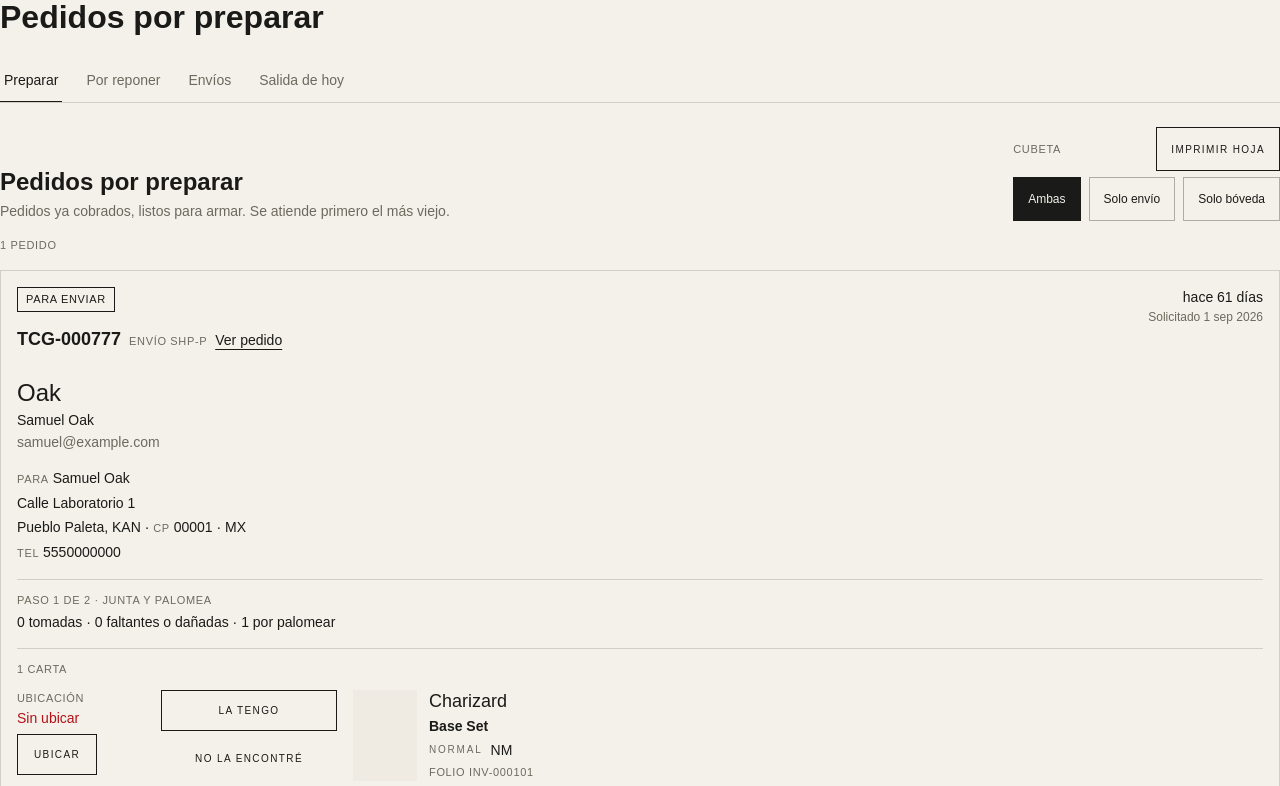
Scenario: M4View · hueco 1: «Ubicar» una carta de un pedido de envío › error del move ⇒ se queda el diálogo con el error y la tarjeta no cambia
Click the button with aria-label "Ubicar la carta con folio INV-000101" at (57, 755), box [17, 734, 97, 775]
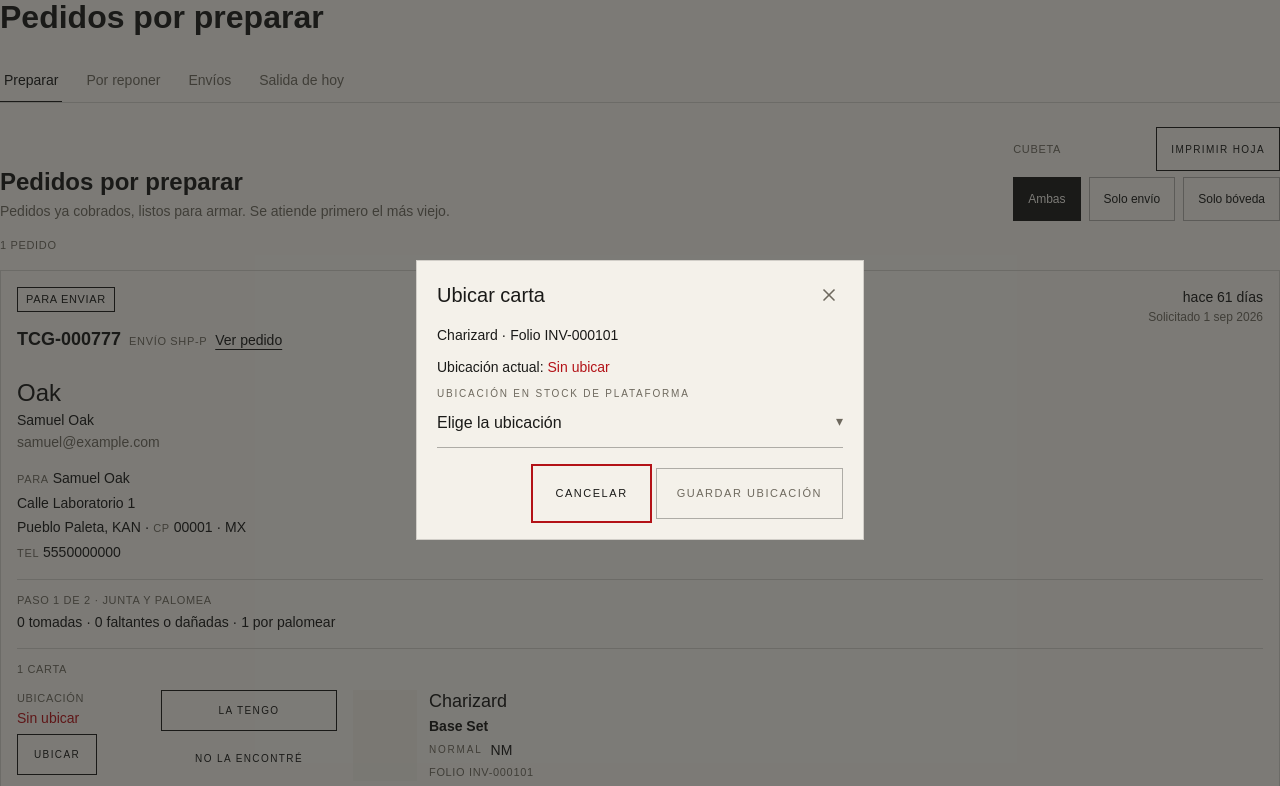
Select "Stock de plataforma · C03-F02-S15" in the dropdown labelled "Ubicación en stock de plataforma" at (640, 423), box [437, 411, 843, 435]
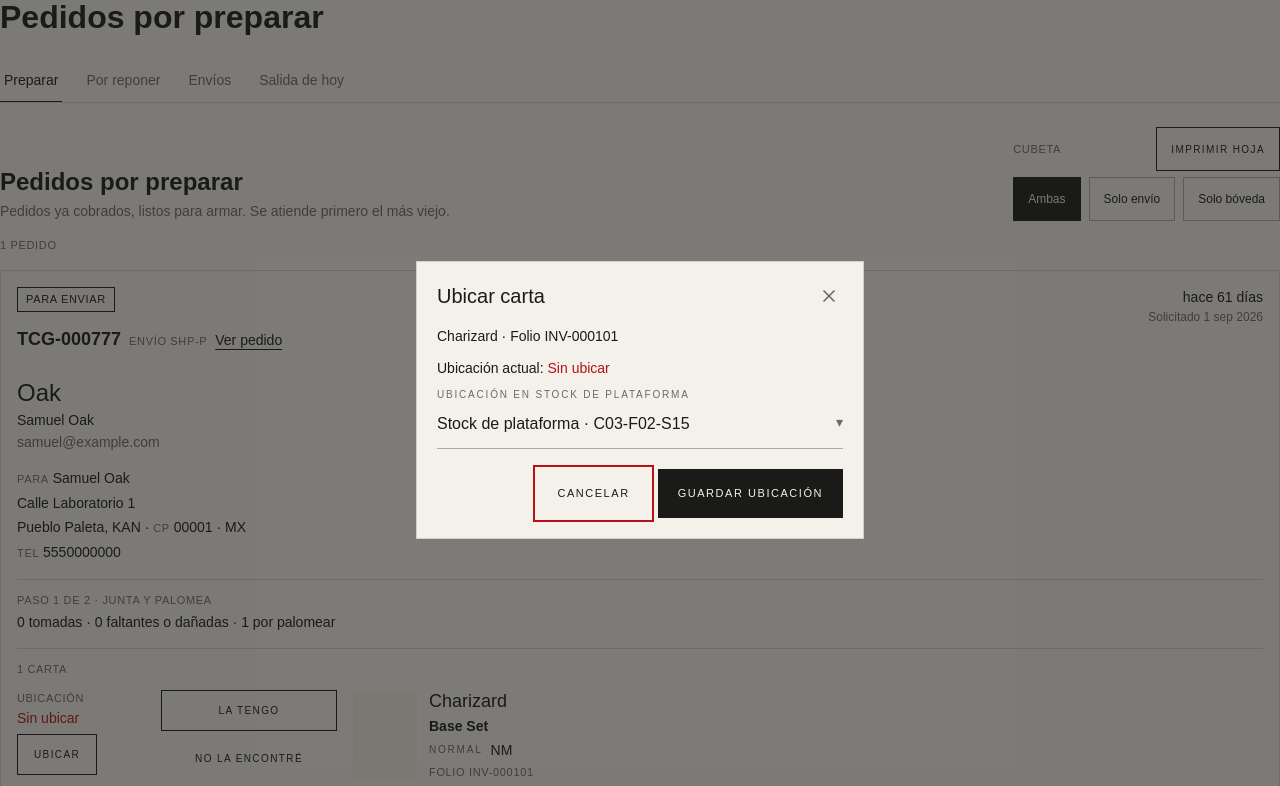
Click the button "Guardar ubicación" at (750, 494), box [658, 469, 843, 518]
(page scrolled)
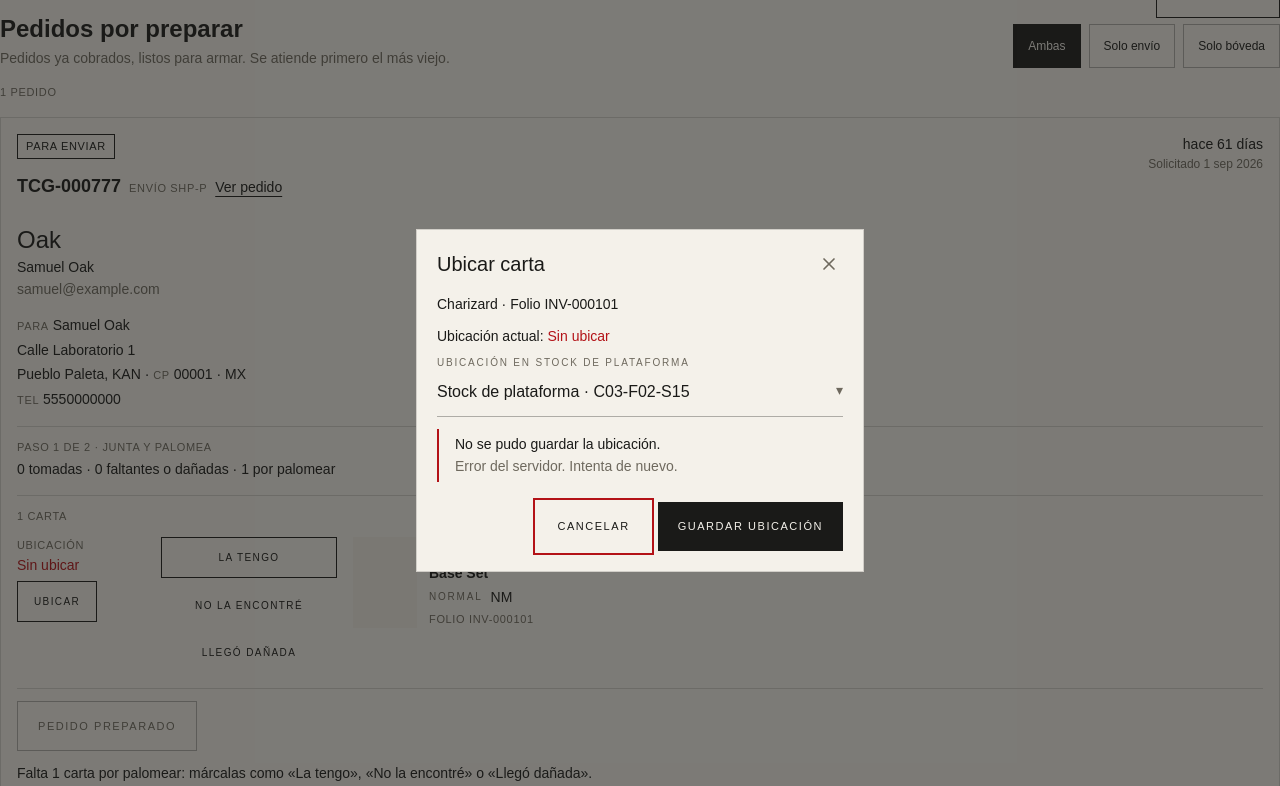
Expected: the element with test id "prep-location-si-1" shows "Sin ubicar", [17, 557, 79, 573]
Now the text "No se pudo guardar la ubicación." is shown, box [455, 436, 660, 452]
